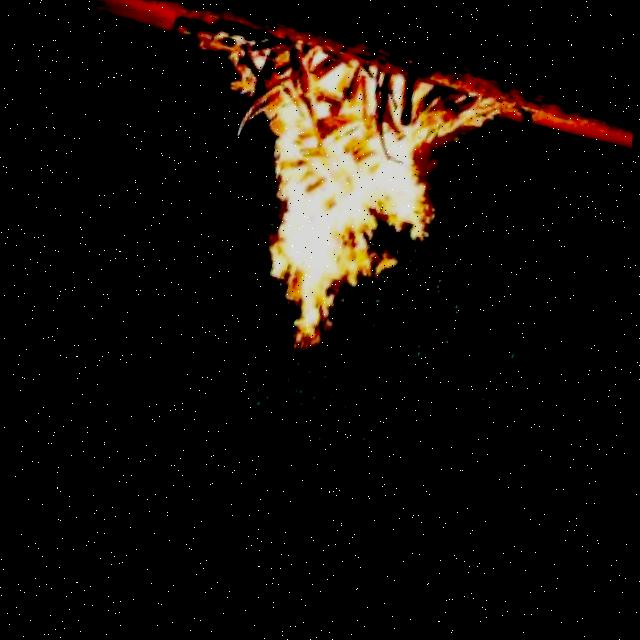Fire: (192, 45, 494, 382)
